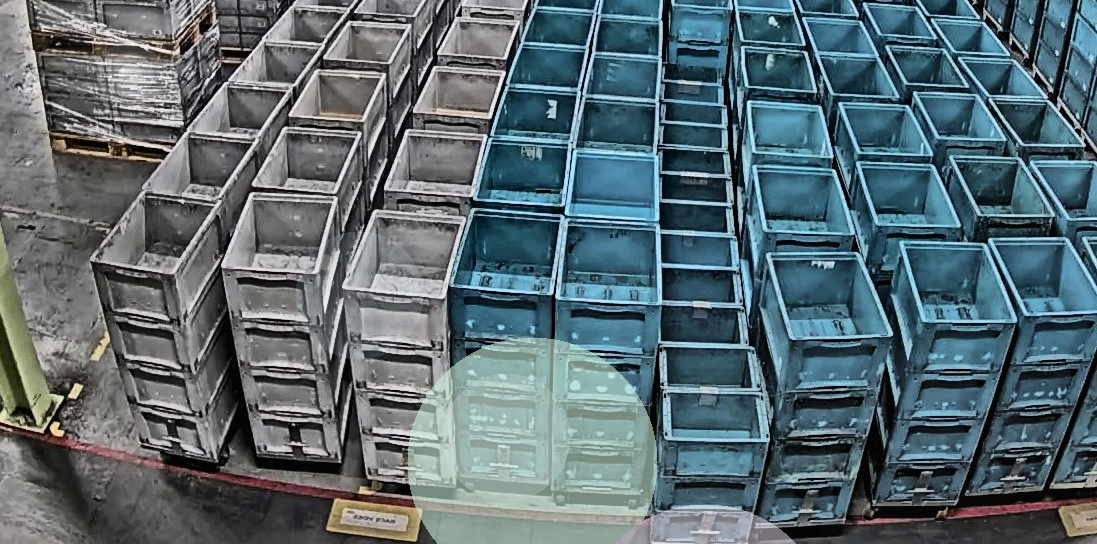4G: (88, 190, 239, 462), (221, 194, 355, 462), (341, 208, 466, 485)
B4: (865, 241, 1017, 501), (758, 251, 895, 523), (963, 236, 1097, 496), (448, 207, 562, 484), (554, 218, 662, 495)
B8: (652, 345, 771, 542)
